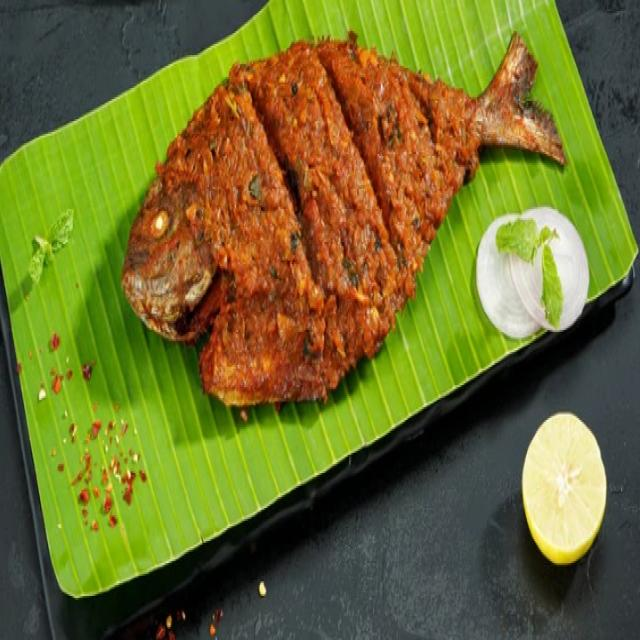FISH FRY: (123, 33, 564, 409)
